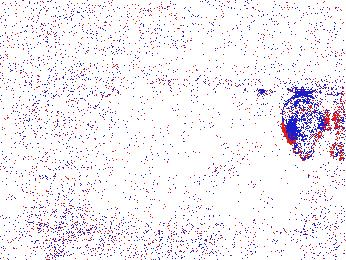flame jellyfish: (281, 93, 328, 160), (168, 200, 228, 248), (39, 204, 97, 243)
